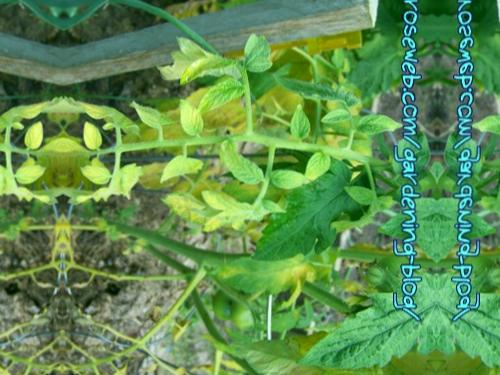Tomato leaf yellow virus: (188, 245, 340, 297), (214, 143, 264, 196), (198, 80, 251, 122), (265, 166, 326, 196), (174, 98, 209, 138)
